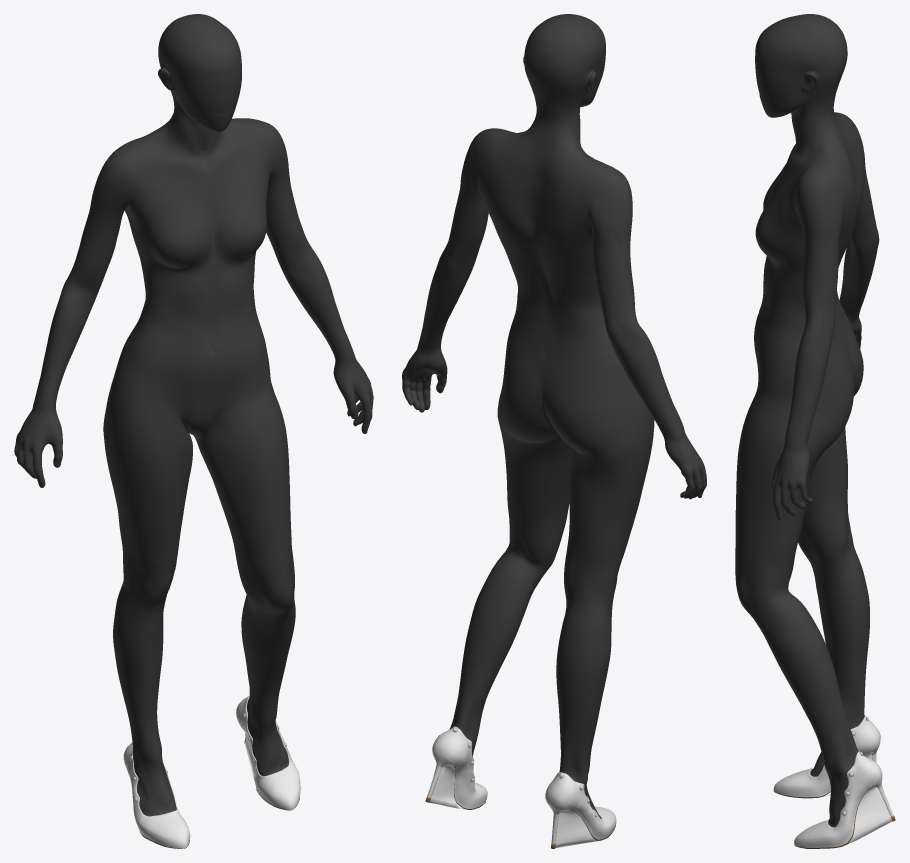
Rendered from manichino.fbx.
The picture shows the model from 3 angles, left to right: view 1: azimuth 30°, elevation 25°; view 2: azimuth 150°, elevation 25°; view 3: azimuth 270°, elevation 25°; orthographic projection. The views are drawn at different scales.
Visible parts, largest first — view 1: body, shoes_l, shoes_r; view 2: body, shoes_r, shoes_l; view 3: body, shoes_l, shoes_r.
Part boxes in pixels (box(x1,y1,x2,y2)): body: box(14, 14, 373, 816); shoes_l: box(236, 696, 300, 810); shoes_r: box(123, 742, 190, 848); body: box(402, 14, 706, 818); shoes_r: box(545, 772, 616, 848); shoes_l: box(425, 726, 487, 809); body: box(735, 14, 879, 827); shoes_l: box(794, 751, 895, 848); shoes_r: box(773, 715, 880, 798).
Bounding box in the file's own units: 768 × 1828 × 337.
Materials: 15 (11 with a texture image).
